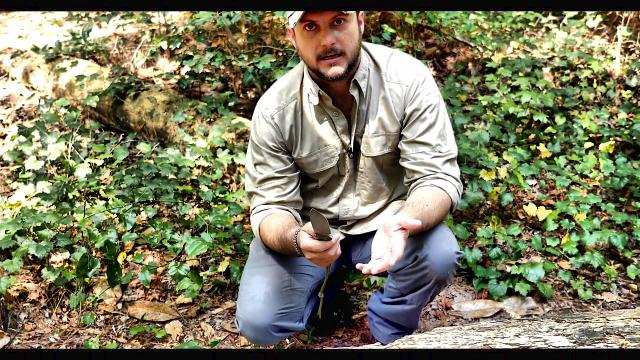knife: (304, 200, 344, 270)
